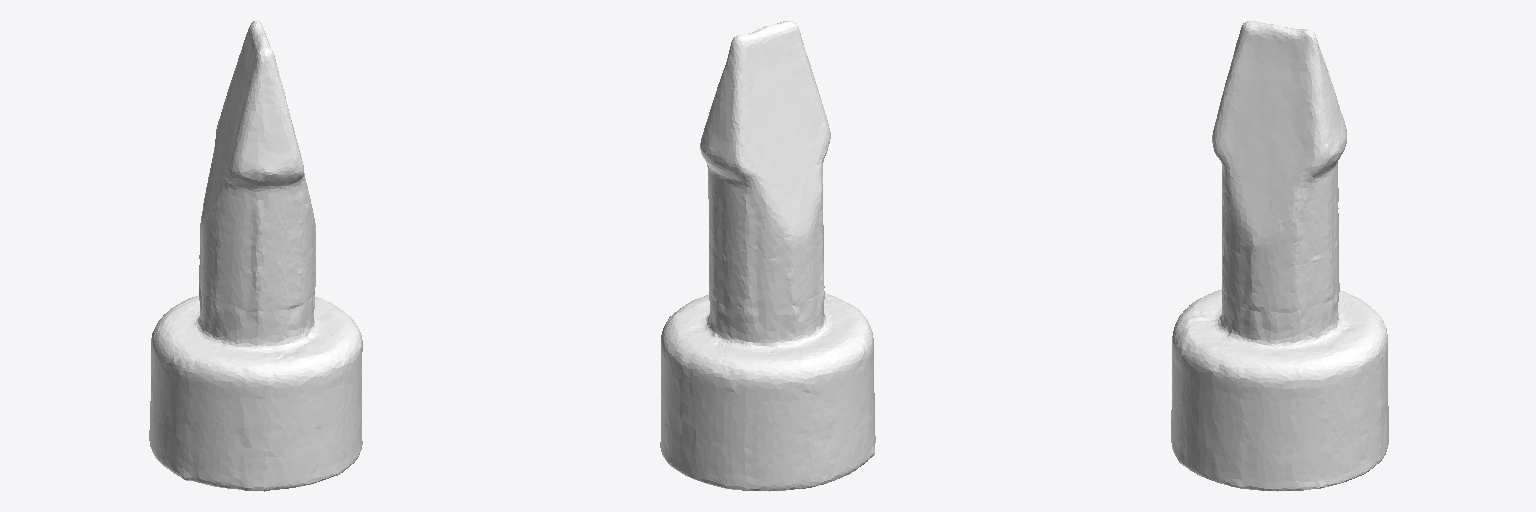
robot.urdf — e_toy_airplane:
<robot name="e_toy_airplane">
    <link name="base_link">
        <visual>
            <origin xyz="0.0 0.0 0.0" rpy="0.0 0.0 0.0" />
            <geometry>
                <mesh filename="e_toy_airplane/textured.obj" scale="1 1 1" />
            </geometry>
            <material name="texture">
                <color rgba="1.0 1.0 1.0 1.0" />
            </material>
        </visual>
        <collision>
            <origin xyz="0.0 0.0 0.0" rpy="0.0 0.0 0.0" />
            <geometry>
                <mesh filename="e_toy_airplane/textured_coacd_0.stl" scale="1 1 1" />
            </geometry>
        </collision>
        <collision>
            <origin xyz="0.0 0.0 0.0" rpy="0.0 0.0 0.0" />
            <geometry>
                <mesh filename="e_toy_airplane/textured_coacd_1.stl" scale="1 1 1" />
            </geometry>
        </collision>
        <collision>
            <origin xyz="0.0 0.0 0.0" rpy="0.0 0.0 0.0" />
            <geometry>
                <mesh filename="e_toy_airplane/textured_coacd_2.stl" scale="1 1 1" />
            </geometry>
        </collision>
        <collision>
            <origin xyz="0.0 0.0 0.0" rpy="0.0 0.0 0.0" />
            <geometry>
                <mesh filename="e_toy_airplane/textured_coacd_3.stl" scale="1 1 1" />
            </geometry>
        </collision>
        <collision>
            <origin xyz="0.0 0.0 0.0" rpy="0.0 0.0 0.0" />
            <geometry>
                <mesh filename="e_toy_airplane/textured_coacd_4.stl" scale="1 1 1" />
            </geometry>
        </collision>
        <inertial>
            <mass value="0.114" />
            <inertia ixx="1e-3" ixy="0.0" ixz="0.0" iyy="1e-3" iyz="0.0" izz="1e-3" />
        </inertial>
    </link>
</robot>

--- Render facts (derived) ---
The picture shows the robot from 3 angles, left to right: view 1: azimuth 30°, elevation 25°; view 2: azimuth 150°, elevation 25°; view 3: azimuth 270°, elevation 25°; orthographic projection.
Model e_toy_airplane with 1 links and 0 joints (none), rooted at base_link, posed all joints at 0.
Visible links, largest first — view 1: base_link; view 2: base_link; view 3: base_link.
Link boxes in pixels (box(x1,y1,x2,y2)): base_link: box(149, 21, 362, 491); base_link: box(660, 21, 875, 491); base_link: box(1171, 21, 1388, 491).
Bounding box of the posed robot: 0.0306 × 0.0307 × 0.0661 m (x, y, z).
1 mesh visuals loaded from 1 distinct referenced files (1 OBJ).